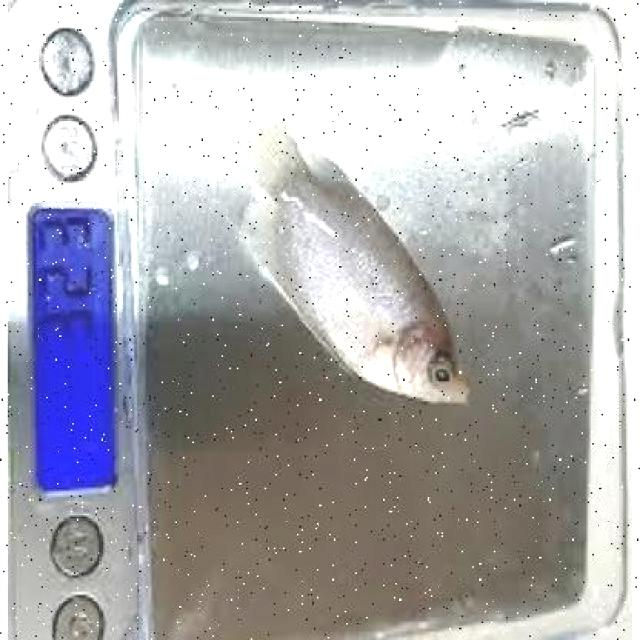gurame: (219, 116, 479, 419)
